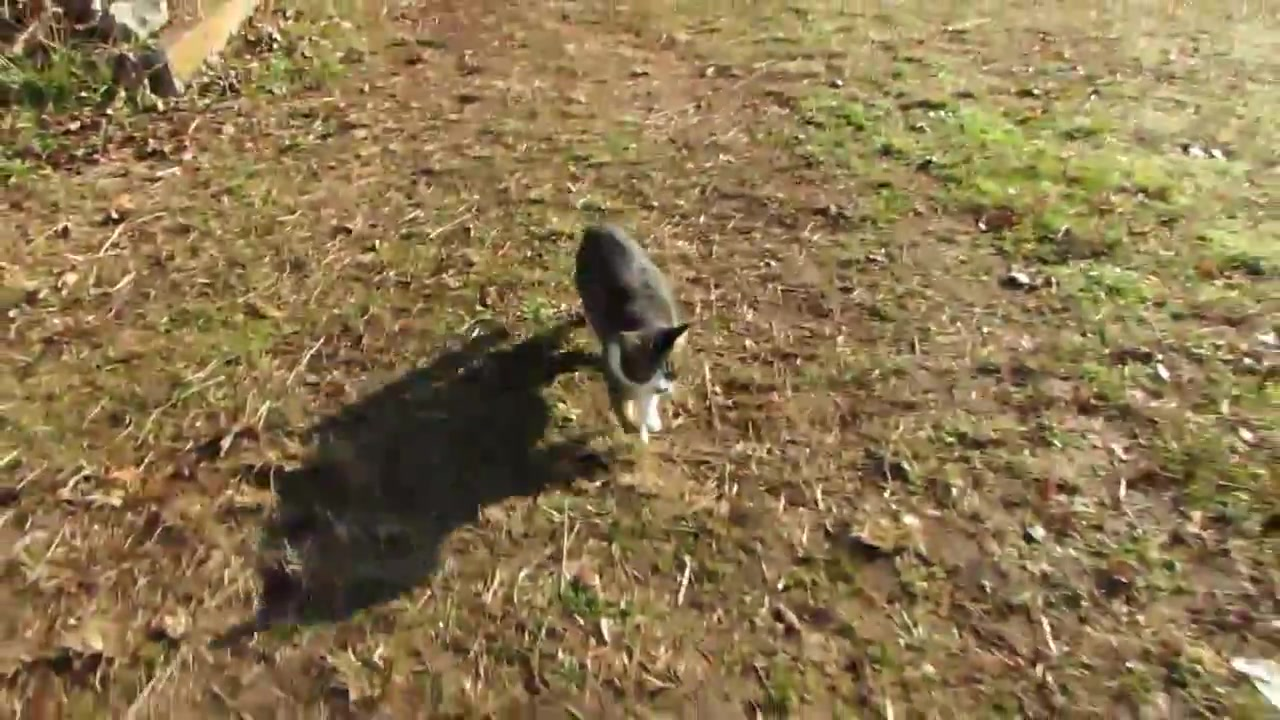cat: (572, 220, 691, 440)
